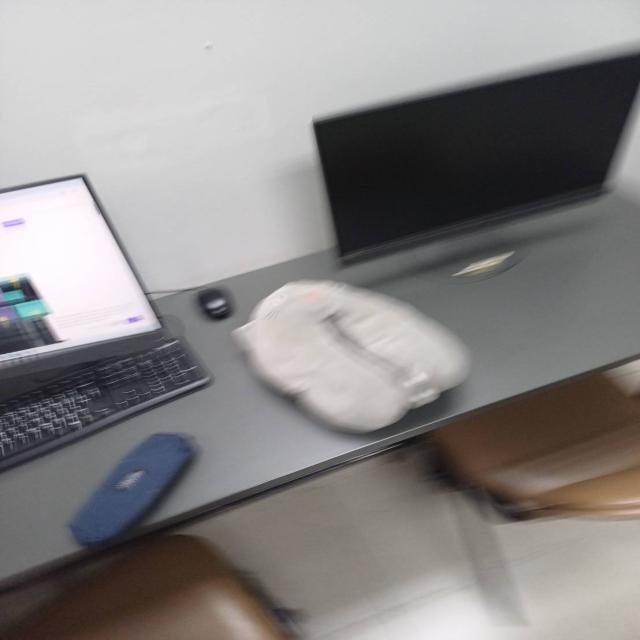pillow: (229, 274, 476, 442)
